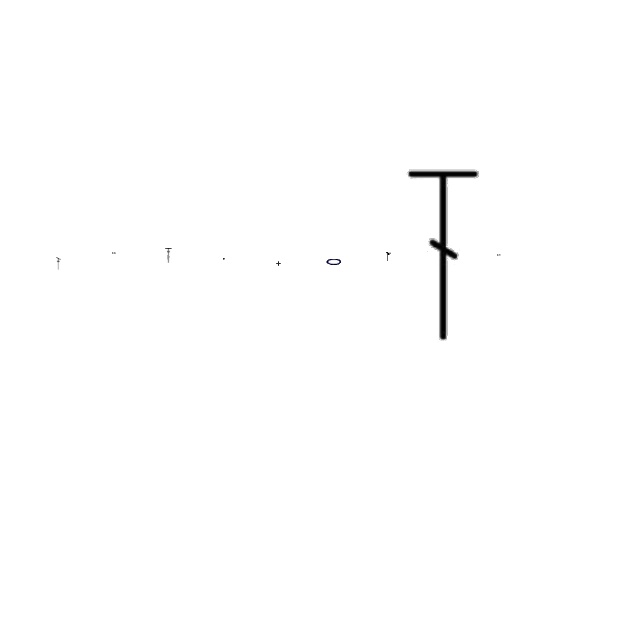chain: (325, 256, 343, 268), (112, 252, 116, 254), (497, 254, 501, 256), (223, 258, 225, 260)
double: (276, 262, 282, 266)
double treble: (405, 163, 483, 347), (166, 248, 172, 264), (56, 258, 62, 270), (386, 252, 392, 262)
